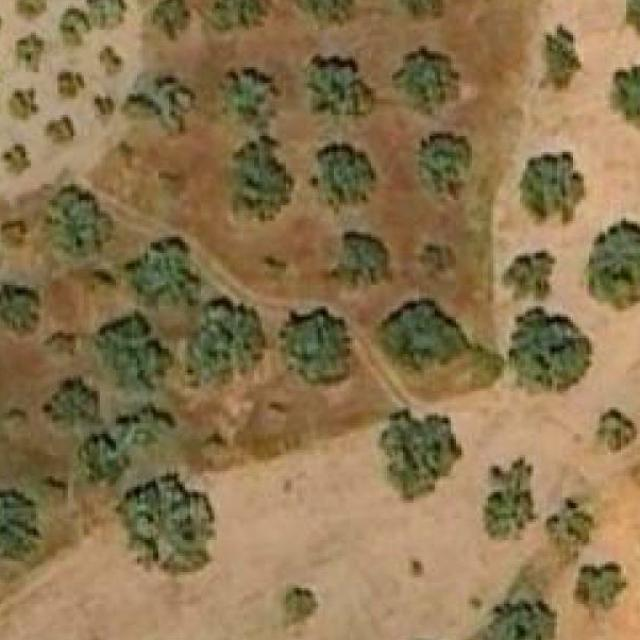Tree: (113, 474, 217, 575), (374, 410, 465, 506), (509, 306, 592, 391), (278, 306, 364, 384), (380, 298, 468, 370), (187, 304, 260, 384), (307, 141, 385, 214), (518, 150, 587, 224), (98, 315, 165, 389), (230, 136, 291, 216), (302, 54, 376, 118), (392, 46, 460, 115), (323, 230, 396, 294), (483, 457, 539, 540), (589, 219, 640, 309), (126, 74, 190, 136), (129, 237, 190, 301), (45, 189, 103, 253), (419, 134, 472, 201), (219, 67, 281, 123), (539, 21, 582, 94), (576, 561, 624, 623), (44, 381, 92, 437), (504, 250, 555, 301), (0, 494, 33, 569), (544, 503, 594, 551), (498, 601, 555, 640), (206, 0, 268, 35), (0, 285, 39, 338), (294, 0, 362, 30), (612, 56, 640, 128), (596, 407, 637, 453), (284, 586, 319, 628), (153, 0, 190, 38), (419, 242, 456, 280), (61, 5, 92, 46), (86, 0, 127, 30), (391, 0, 447, 21), (18, 32, 45, 72), (1, 144, 31, 180), (44, 114, 76, 144), (10, 90, 40, 120), (98, 44, 124, 78), (621, 0, 640, 40), (58, 72, 88, 97), (15, 0, 47, 21), (95, 96, 114, 114)
